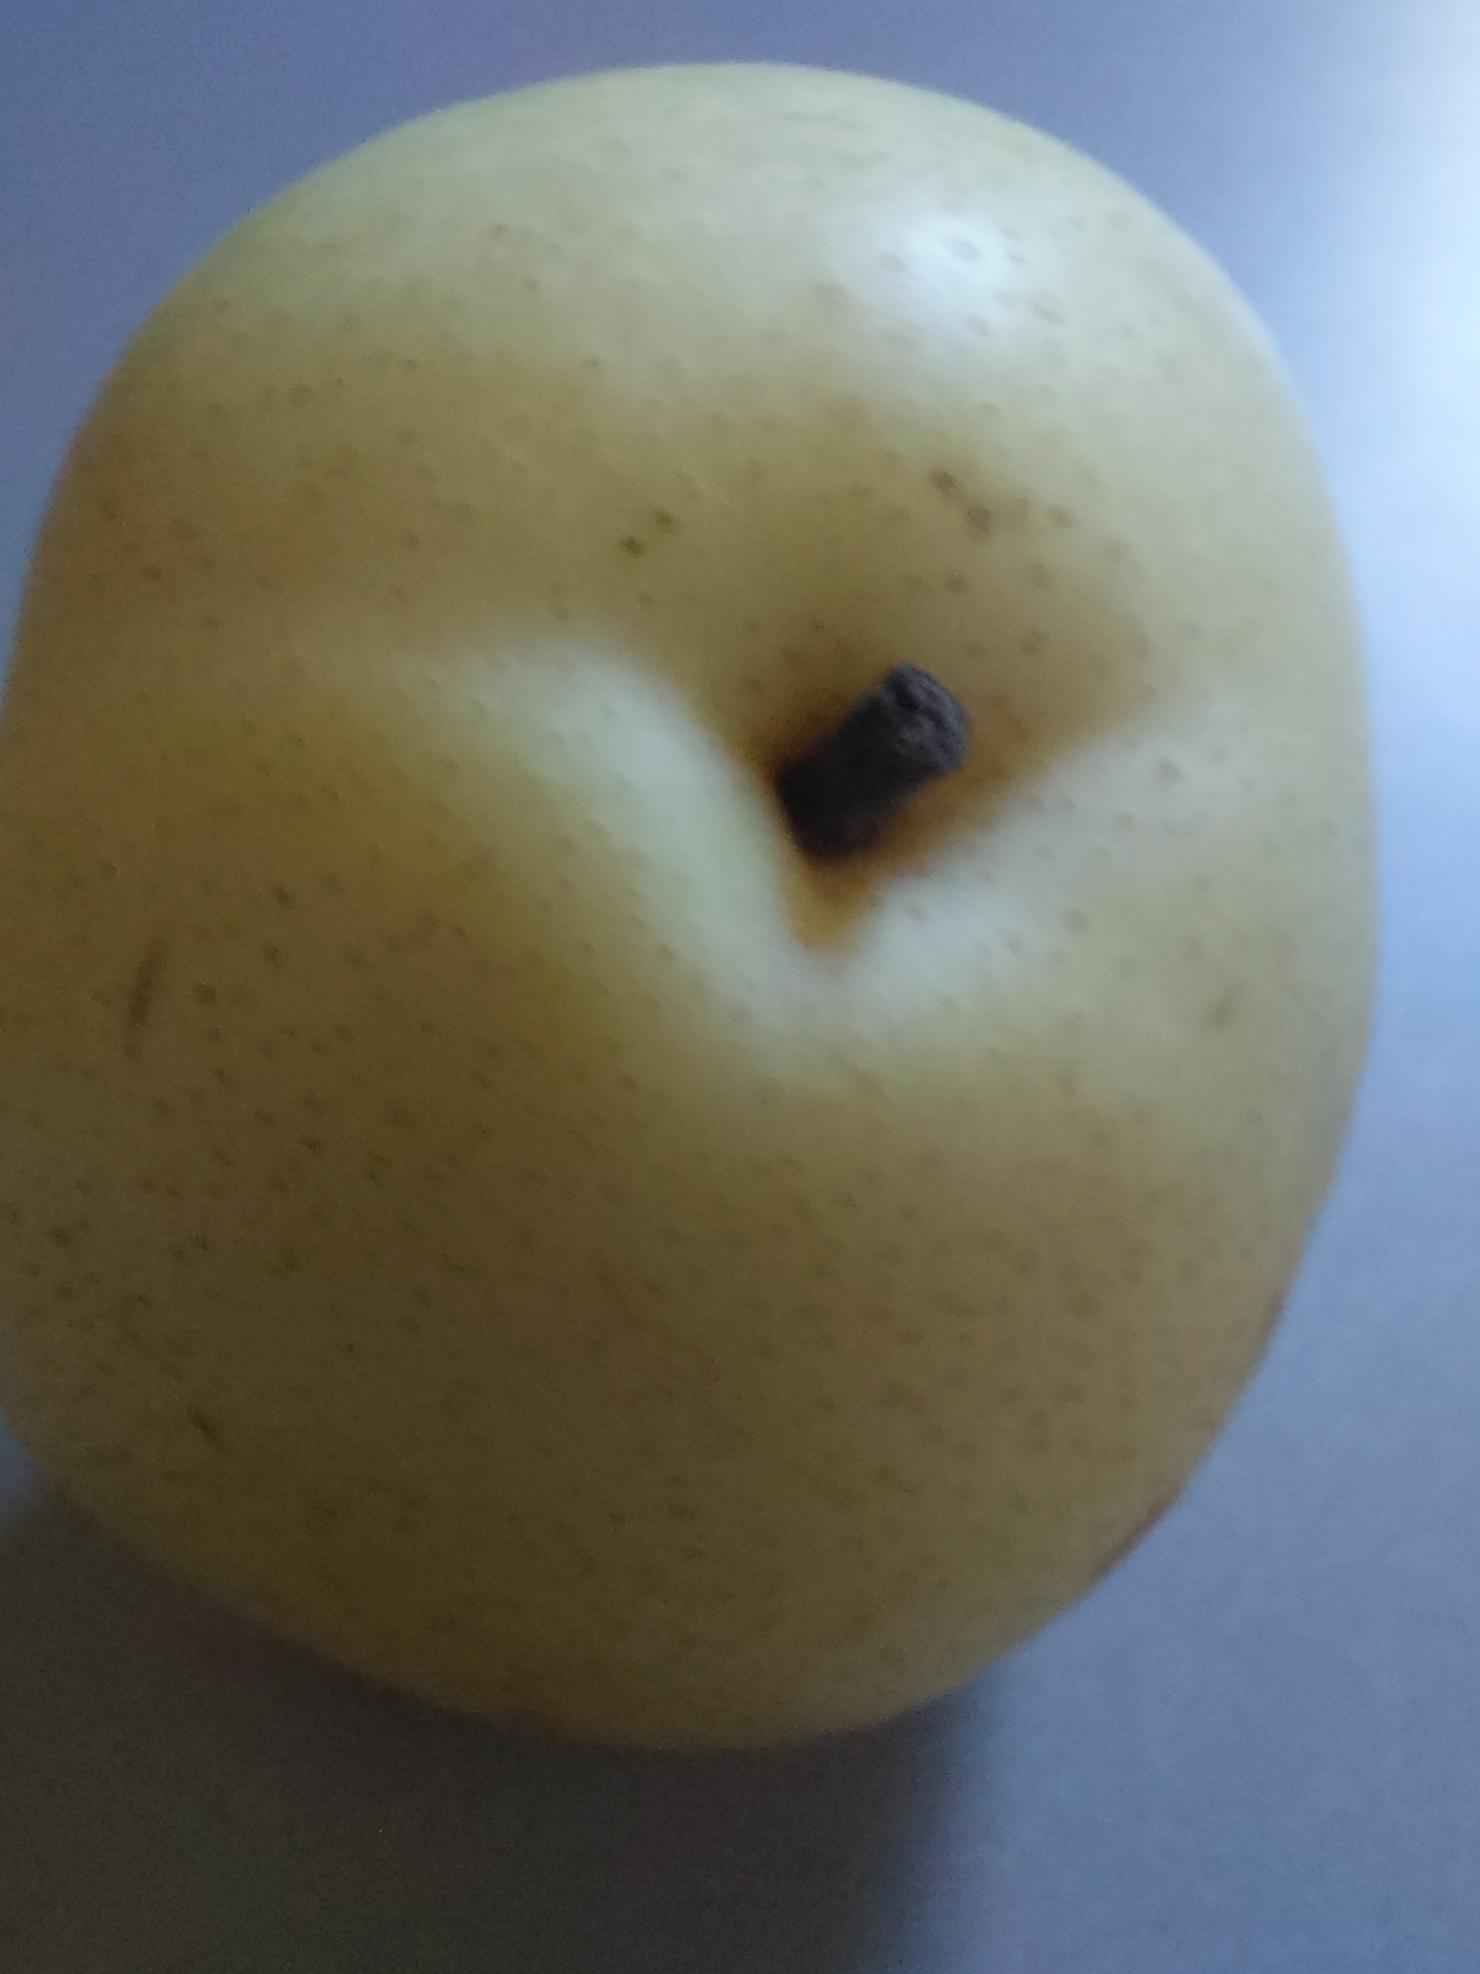Good Pear: (0, 47, 1436, 1753)
